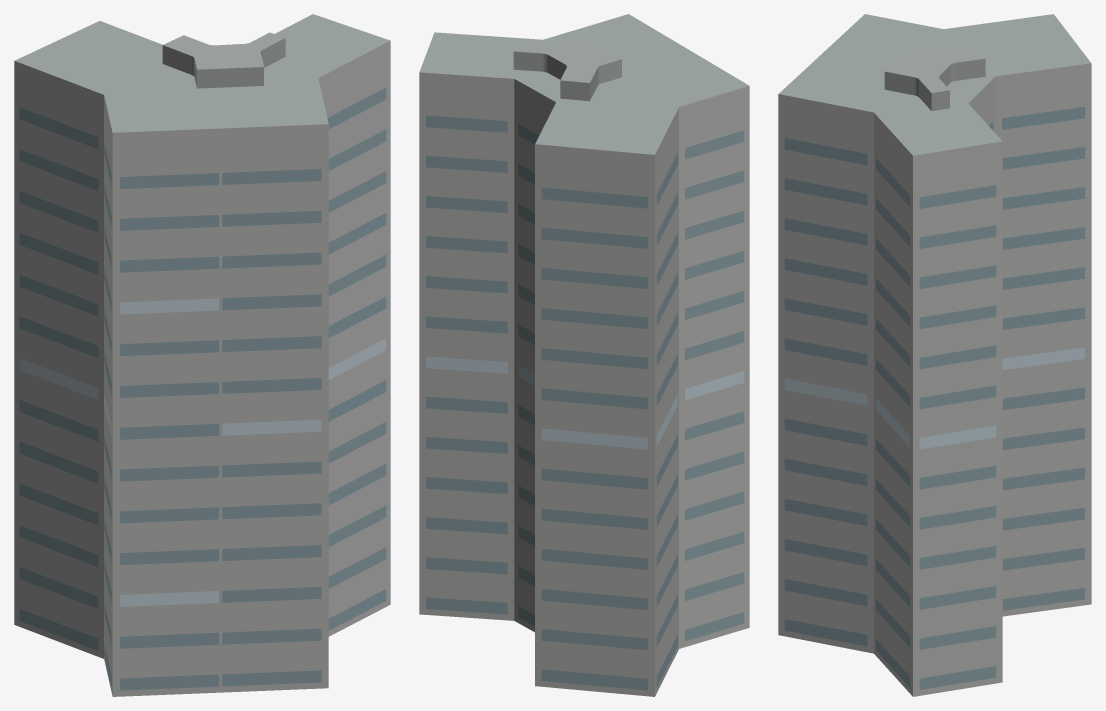
File: fallback-jamsil-els-166.glb
3 views of the same model, side by side, from view 1: azimuth 30°, elevation 25°; view 2: azimuth 150°, elevation 25°; view 3: azimuth 270°, elevation 25° (orthographic). The views are drawn at different scales.
Visible parts, largest first — view 1: fallback-jamsil-els-166; view 2: fallback-jamsil-els-166; view 3: fallback-jamsil-els-166.
Boxes of the visible parts, left/top/right/bottom form: fallback-jamsil-els-166: left=14, top=14, right=390, bottom=696; fallback-jamsil-els-166: left=419, top=14, right=749, bottom=696; fallback-jamsil-els-166: left=778, top=14, right=1091, bottom=696.
Bounding box in the file's own units: 40.25 × 74 × 37.54.
